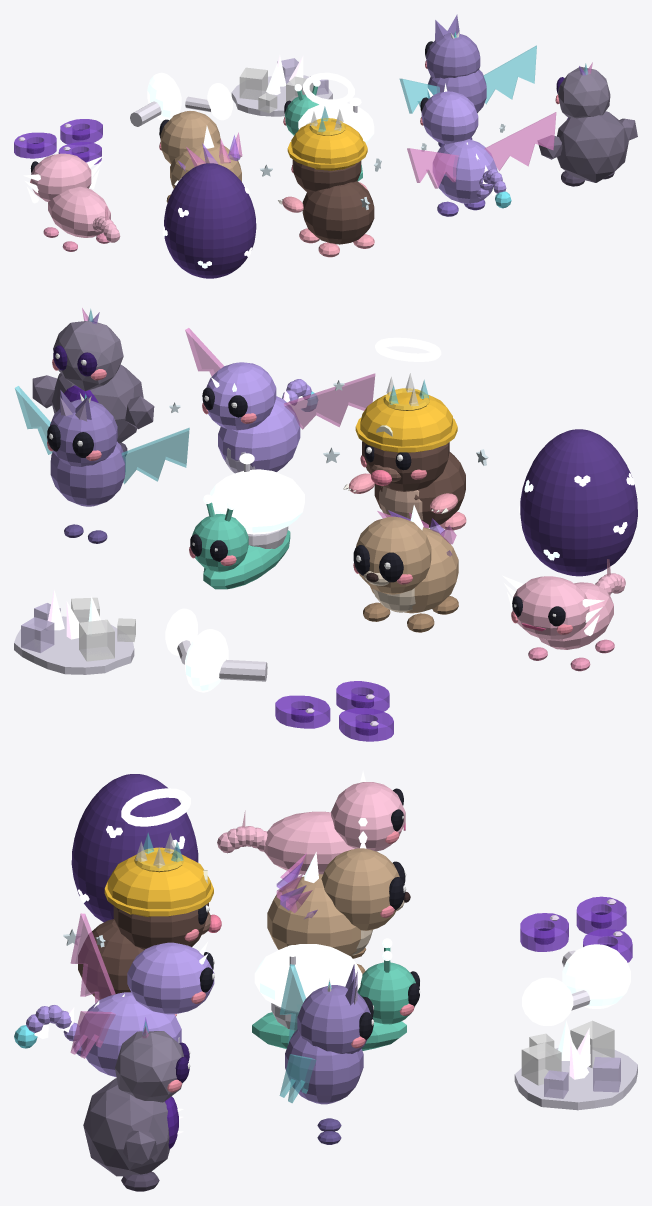
The model's file is CrystalCave.fbx.
3 views of the same model, one above another, from view 1: azimuth 30°, elevation 25°; view 2: azimuth 150°, elevation 25°; view 3: azimuth 270°, elevation 25° (orthographic). The views are drawn at different scales.
Visible parts, largest first — view 1: Egg_5A3C8C, Pet_B8A0F0, Pet_6A5048, Pet_FFC4DC, Pet_7A7088, Pet_9A86C8, Pet_C8A888, Pet_FF96E6_Glass.002, Pet_FFC83A_Metal, Top_8A4AE0_Glass, Pet_7FF0FF_Glass, Pet_8A8098 (+13 smaller); view 2: Egg_5A3C8C, Pet_B8A0F0, Pet_C8A888, Pet_9A86C8, Pet_FFC4DC, Pet_7FF0FF_Neon, Top_8A4AE0_Glass, Pet_FFC83A_Metal, Pet_6ACFB8, Pet_6A5048, Pet_7A7088, Pet_FF96E6_Glass.002 (+19 smaller); view 3: Pet_B8A0F0, Pet_C8A888, Egg_5A3C8C, Pet_FFC4DC, Pet_9A86C8, Pet_7A7088, Pet_6A5048, Pet_FFC83A_Metal, Pet_7FF0FF_Neon, Pet_6ACFB8, Top_8A4AE0_Glass, Pet_8A8098 (+12 smaller).
Boxes of the visible parts, left/top/right/bottom form: Egg_5A3C8C: left=164, top=163, right=256, bottom=278; Pet_B8A0F0: left=421, top=91, right=506, bottom=203; Pet_6A5048: left=292, top=159, right=374, bottom=244; Pet_FFC4DC: left=31, top=153, right=120, bottom=242; Pet_7A7088: left=538, top=111, right=637, bottom=182; Pet_9A86C8: left=426, top=14, right=486, bottom=112; Pet_C8A888: left=160, top=111, right=241, bottom=188; Pet_FF96E6_Glass.002: left=407, top=112, right=556, bottom=188; Pet_FFC83A_Metal: left=287, top=121, right=367, bottom=170; Top_8A4AE0_Glass: left=14, top=119, right=102, bottom=164; Pet_7FF0FF_Glass: left=399, top=45, right=536, bottom=113; Pet_8A8098: left=558, top=66, right=610, bottom=118; Egg_5A3C8C: left=520, top=429, right=637, bottom=576; Pet_B8A0F0: left=206, top=362, right=311, bottom=471; Pet_C8A888: left=356, top=516, right=458, bottom=613; Pet_9A86C8: left=50, top=390, right=125, bottom=506; Pet_FFC4DC: left=512, top=573, right=625, bottom=649; Pet_7FF0FF_Neon: left=203, top=469, right=304, bottom=534; Top_8A4AE0_Glass: left=275, top=681, right=393, bottom=741; Pet_FFC83A_Metal: left=355, top=392, right=457, bottom=452; Pet_6ACFB8: left=192, top=502, right=290, bottom=589; Pet_6A5048: left=362, top=441, right=465, bottom=527; Pet_7A7088: left=32, top=364, right=154, bottom=442; Pet_FF96E6_Glass.002: left=185, top=328, right=375, bottom=429; Pet_B8A0F0: left=26, top=942, right=214, bottom=1077; Pet_C8A888: left=267, top=848, right=399, bottom=956; Egg_5A3C8C: left=71, top=774, right=198, bottom=922; Pet_FFC4DC: left=217, top=782, right=405, bottom=874; Pet_9A86C8: left=285, top=964, right=370, bottom=1104; Pet_7A7088: left=83, top=1078, right=169, bottom=1176; Pet_6A5048: left=78, top=903, right=208, bottom=999; Pet_FFC83A_Metal: left=104, top=852, right=213, bottom=916; Pet_7FF0FF_Neon: left=254, top=938, right=392, bottom=1011; Pet_6ACFB8: left=252, top=948, right=415, bottom=1050; Top_8A4AE0_Glass: left=520, top=896, right=632, bottom=962; Pet_8A8098: left=115, top=1031, right=183, bottom=1102.
Size of the model in its own units: 7.97 by 2.24 by 5.94.
